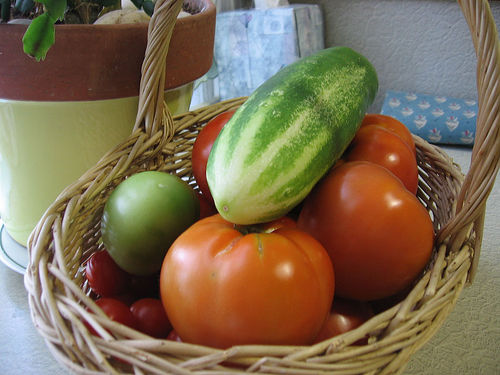cucumber: (205, 44, 380, 228)
